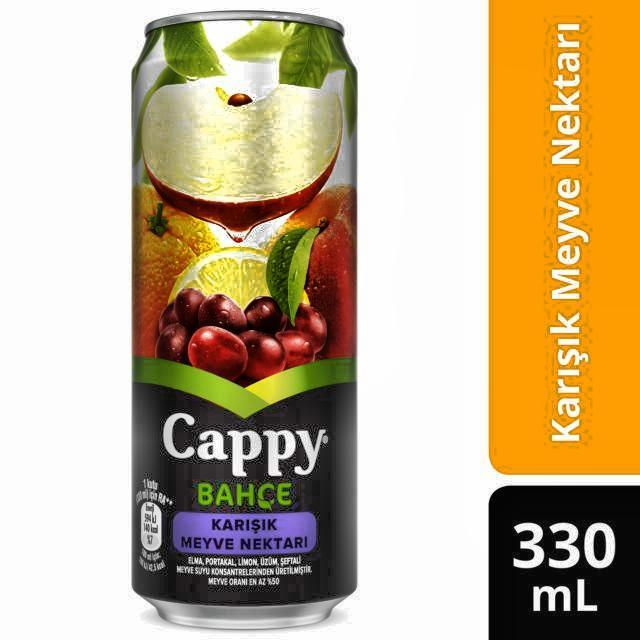metal: (130, 16, 358, 632)
